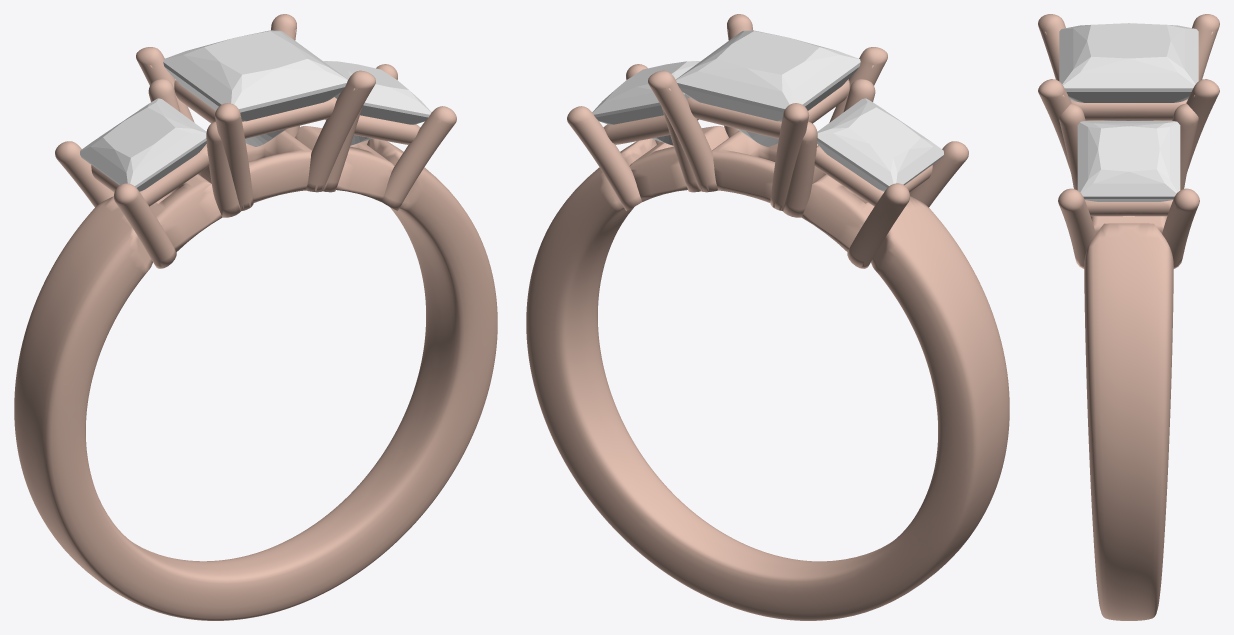
The model's file is diamond-princess-rosegold-4prong-straighttaperedband-3stone.glb.
3 renders of one model, left to right at view 1: azimuth 30°, elevation 25°; view 2: azimuth 150°, elevation 25°; view 3: azimuth 270°, elevation 25°, orthographic.
Parts seen in each view (by area): view 1: metal, stone, side, side.001; view 2: metal, stone, side, side.001; view 3: metal, stone, side.001.
Boxes of the visible parts, left/top/right/bottom form: metal: left=14, top=14, right=497, bottom=620; stone: left=163, top=30, right=347, bottom=146; side: left=80, top=98, right=206, bottom=191; side.001: left=324, top=61, right=431, bottom=145; metal: left=526, top=14, right=1009, bottom=620; stone: left=676, top=30, right=860, bottom=146; side: left=817, top=98, right=943, bottom=191; side.001: left=592, top=61, right=700, bottom=145; metal: left=1038, top=14, right=1219, bottom=620; stone: left=1059, top=23, right=1198, bottom=120; side.001: left=1077, top=121, right=1180, bottom=201.
Bounding box in the file's own units: 20.49 × 23.86 × 7.08.
